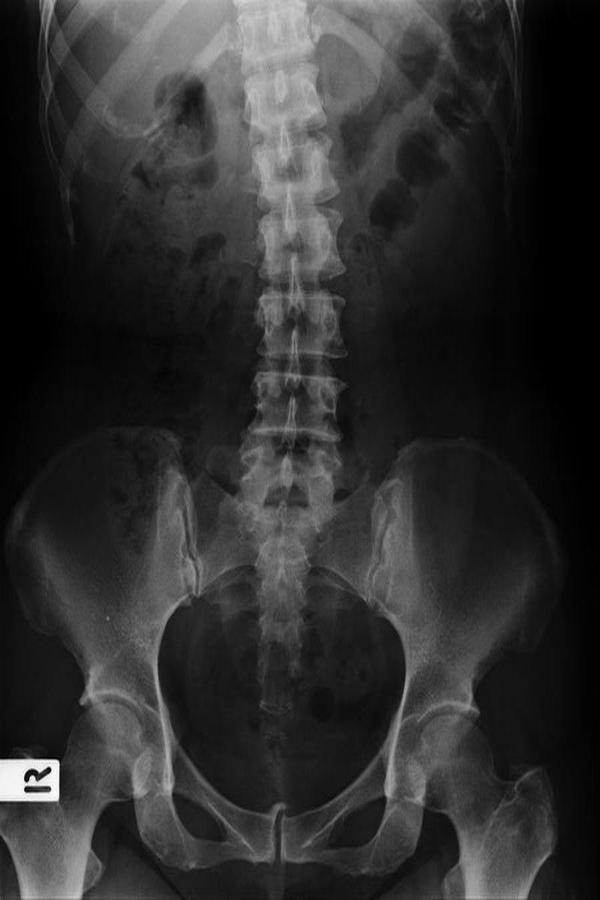lumbar scoliosis: (226, 7, 354, 530)
